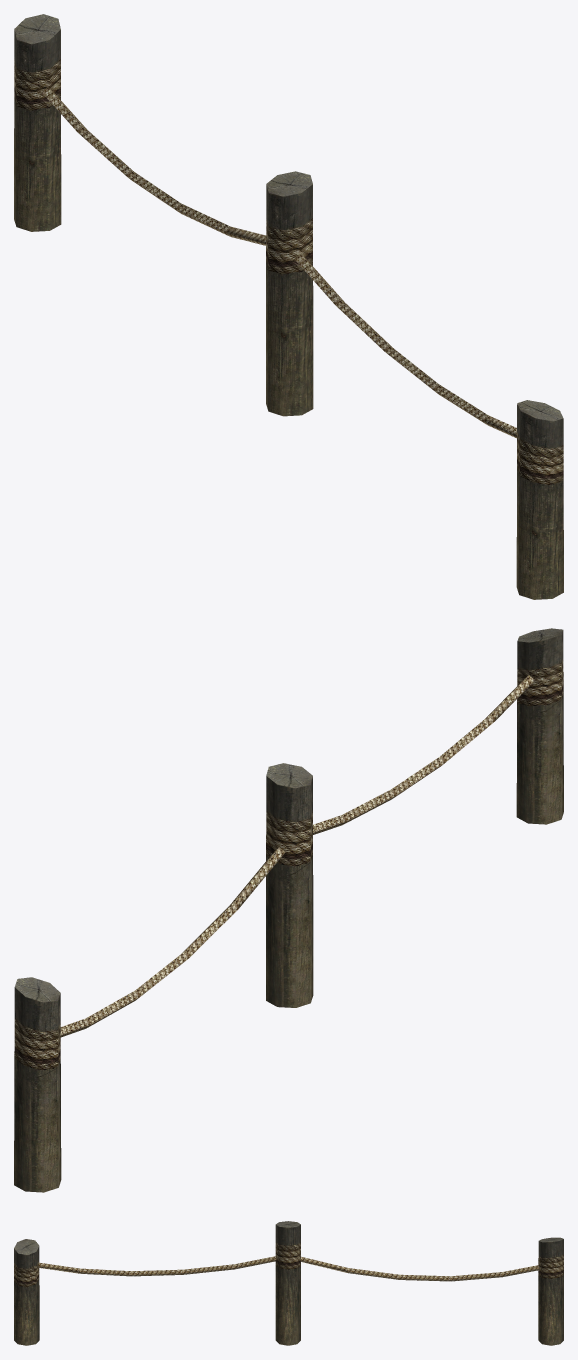
File: fortms_pier_pillar03.fbx
The picture shows the model from 3 angles, top to bottom: view 1: azimuth 30°, elevation 25°; view 2: azimuth 150°, elevation 25°; view 3: azimuth 270°, elevation 25°; orthographic projection. The views are drawn at different scales.
Visible parts, largest first — view 1: fortMS_pier_pillar03; view 2: fortMS_pier_pillar03; view 3: fortMS_pier_pillar03.
Part boxes in pixels (box(x1,y1,x2,y2)): fortMS_pier_pillar03: box(14, 14, 563, 599); fortMS_pier_pillar03: box(14, 628, 563, 1192); fortMS_pier_pillar03: box(14, 1221, 563, 1345).
Bounding box in the file's own units: 0.4759 × 2.43 × 10.25.
